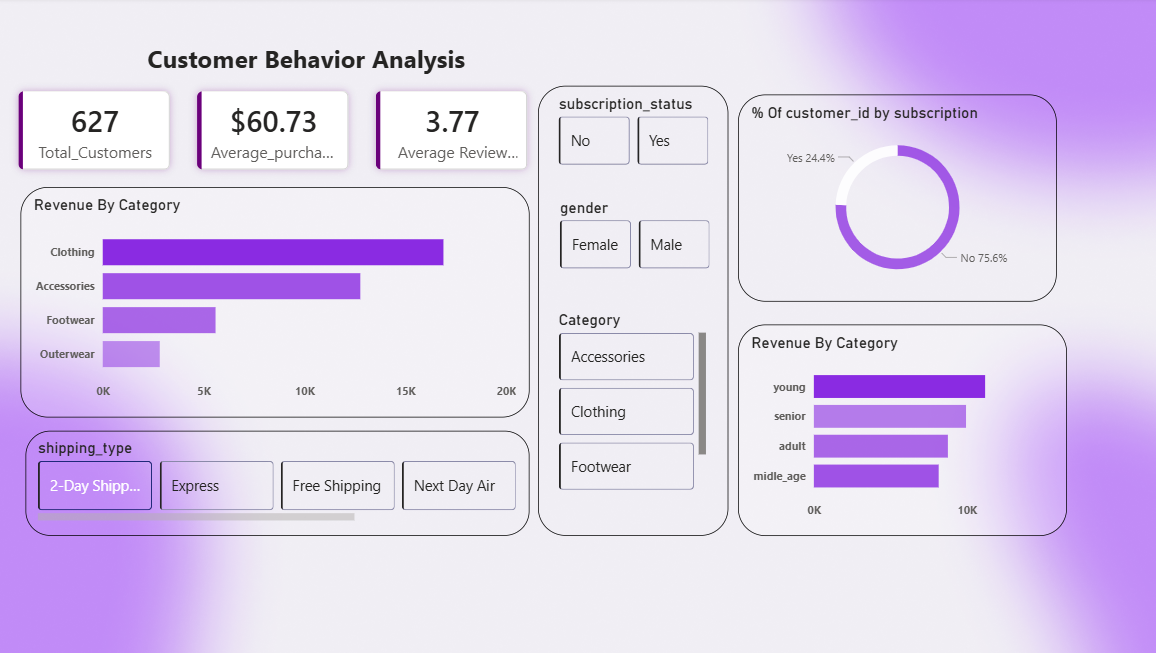

This screenshot's page, from the dashboard's own definition file:
{"tool":"powerbi","page":{"name":"Page 1","canvas":[1280,720],"ordinal":0},"visuals":[{"type":"cardVisual","fields":{"Data":["mydatabase customer.Total_Customers","mydatabase customer.Average_purchase Amount","mydatabase customer.Average Review Rating"]},"box":[0,75.5,616.1,142.7],"z":0},{"type":"textbox","box":[0,43.9,687.5,63.1],"z":1000},{"type":"shape","box":[598.3,97.4,208.6,494],"z":2000},{"type":"clusteredBarChart","title":"Revenue By Category","fields":{"Category":["mydatabase customer.category"],"Y":["Sum(mydatabase customer.purchase_amount)"]},"box":[30.2,208.6,558.5,252.5],"z":6000},{"type":"donutChart","title":"% Of customer_id by subscription","fields":{"Category":["mydatabase customer.subscription_status"],"Y":["CountNonNull(mydatabase customer.customer_id)"]},"box":[817.1,106.9,349.6,227.6],"z":7000},{"type":"advancedSlicerVisual","title":"Category","fields":{"Values":["mydatabase customer.category"]},"box":[615.6,344.1,171.4,201.5],"z":8000},{"type":"advancedSlicerVisual","fields":{"Values":["mydatabase customer.subscription_status"]},"box":[615.6,106.9,174.1,82.3],"z":9000},{"type":"advancedSlicerVisual","fields":{"Values":["mydatabase customer.gender"]},"box":[617,220.7,174.1,82.3],"z":10000},{"type":"advancedSlicerVisual","fields":{"Values":["mydatabase customer.shipping_type"]},"box":[35.6,475.8,552.5,115.2],"z":11000},{"type":"clusteredBarChart","title":"Revenue By Category","fields":{"Y":["Sum(mydatabase customer.purchase_amount)"],"Category":["mydatabase customer.age_group"]},"box":[817.1,359.2,360.6,231.7],"z":11001}]}

Visuals, with their boxes in screenshot pixels (x1, y1, x2, y2), scaled from the page's 1280x720 canvas onto the 1156x653 screenshot:
cardVisual - mydatabase customer.Total_Customers x mydatabase customer.Average_purchase Amount: x1=0 y1=68 x2=556 y2=198
textbox: x1=0 y1=40 x2=621 y2=97
shape: x1=540 y1=88 x2=729 y2=536
"Revenue By Category" clusteredBarChart: x1=27 y1=189 x2=532 y2=418
"% Of customer_id by subscription" donutChart: x1=738 y1=97 x2=1054 y2=303
"Category" advancedSlicerVisual: x1=556 y1=312 x2=711 y2=495
advancedSlicerVisual - mydatabase customer.subscription_status: x1=556 y1=97 x2=713 y2=172
advancedSlicerVisual - mydatabase customer.gender: x1=557 y1=200 x2=714 y2=275
advancedSlicerVisual - mydatabase customer.shipping_type: x1=32 y1=432 x2=531 y2=536
"Revenue By Category" clusteredBarChart: x1=738 y1=326 x2=1064 y2=536
